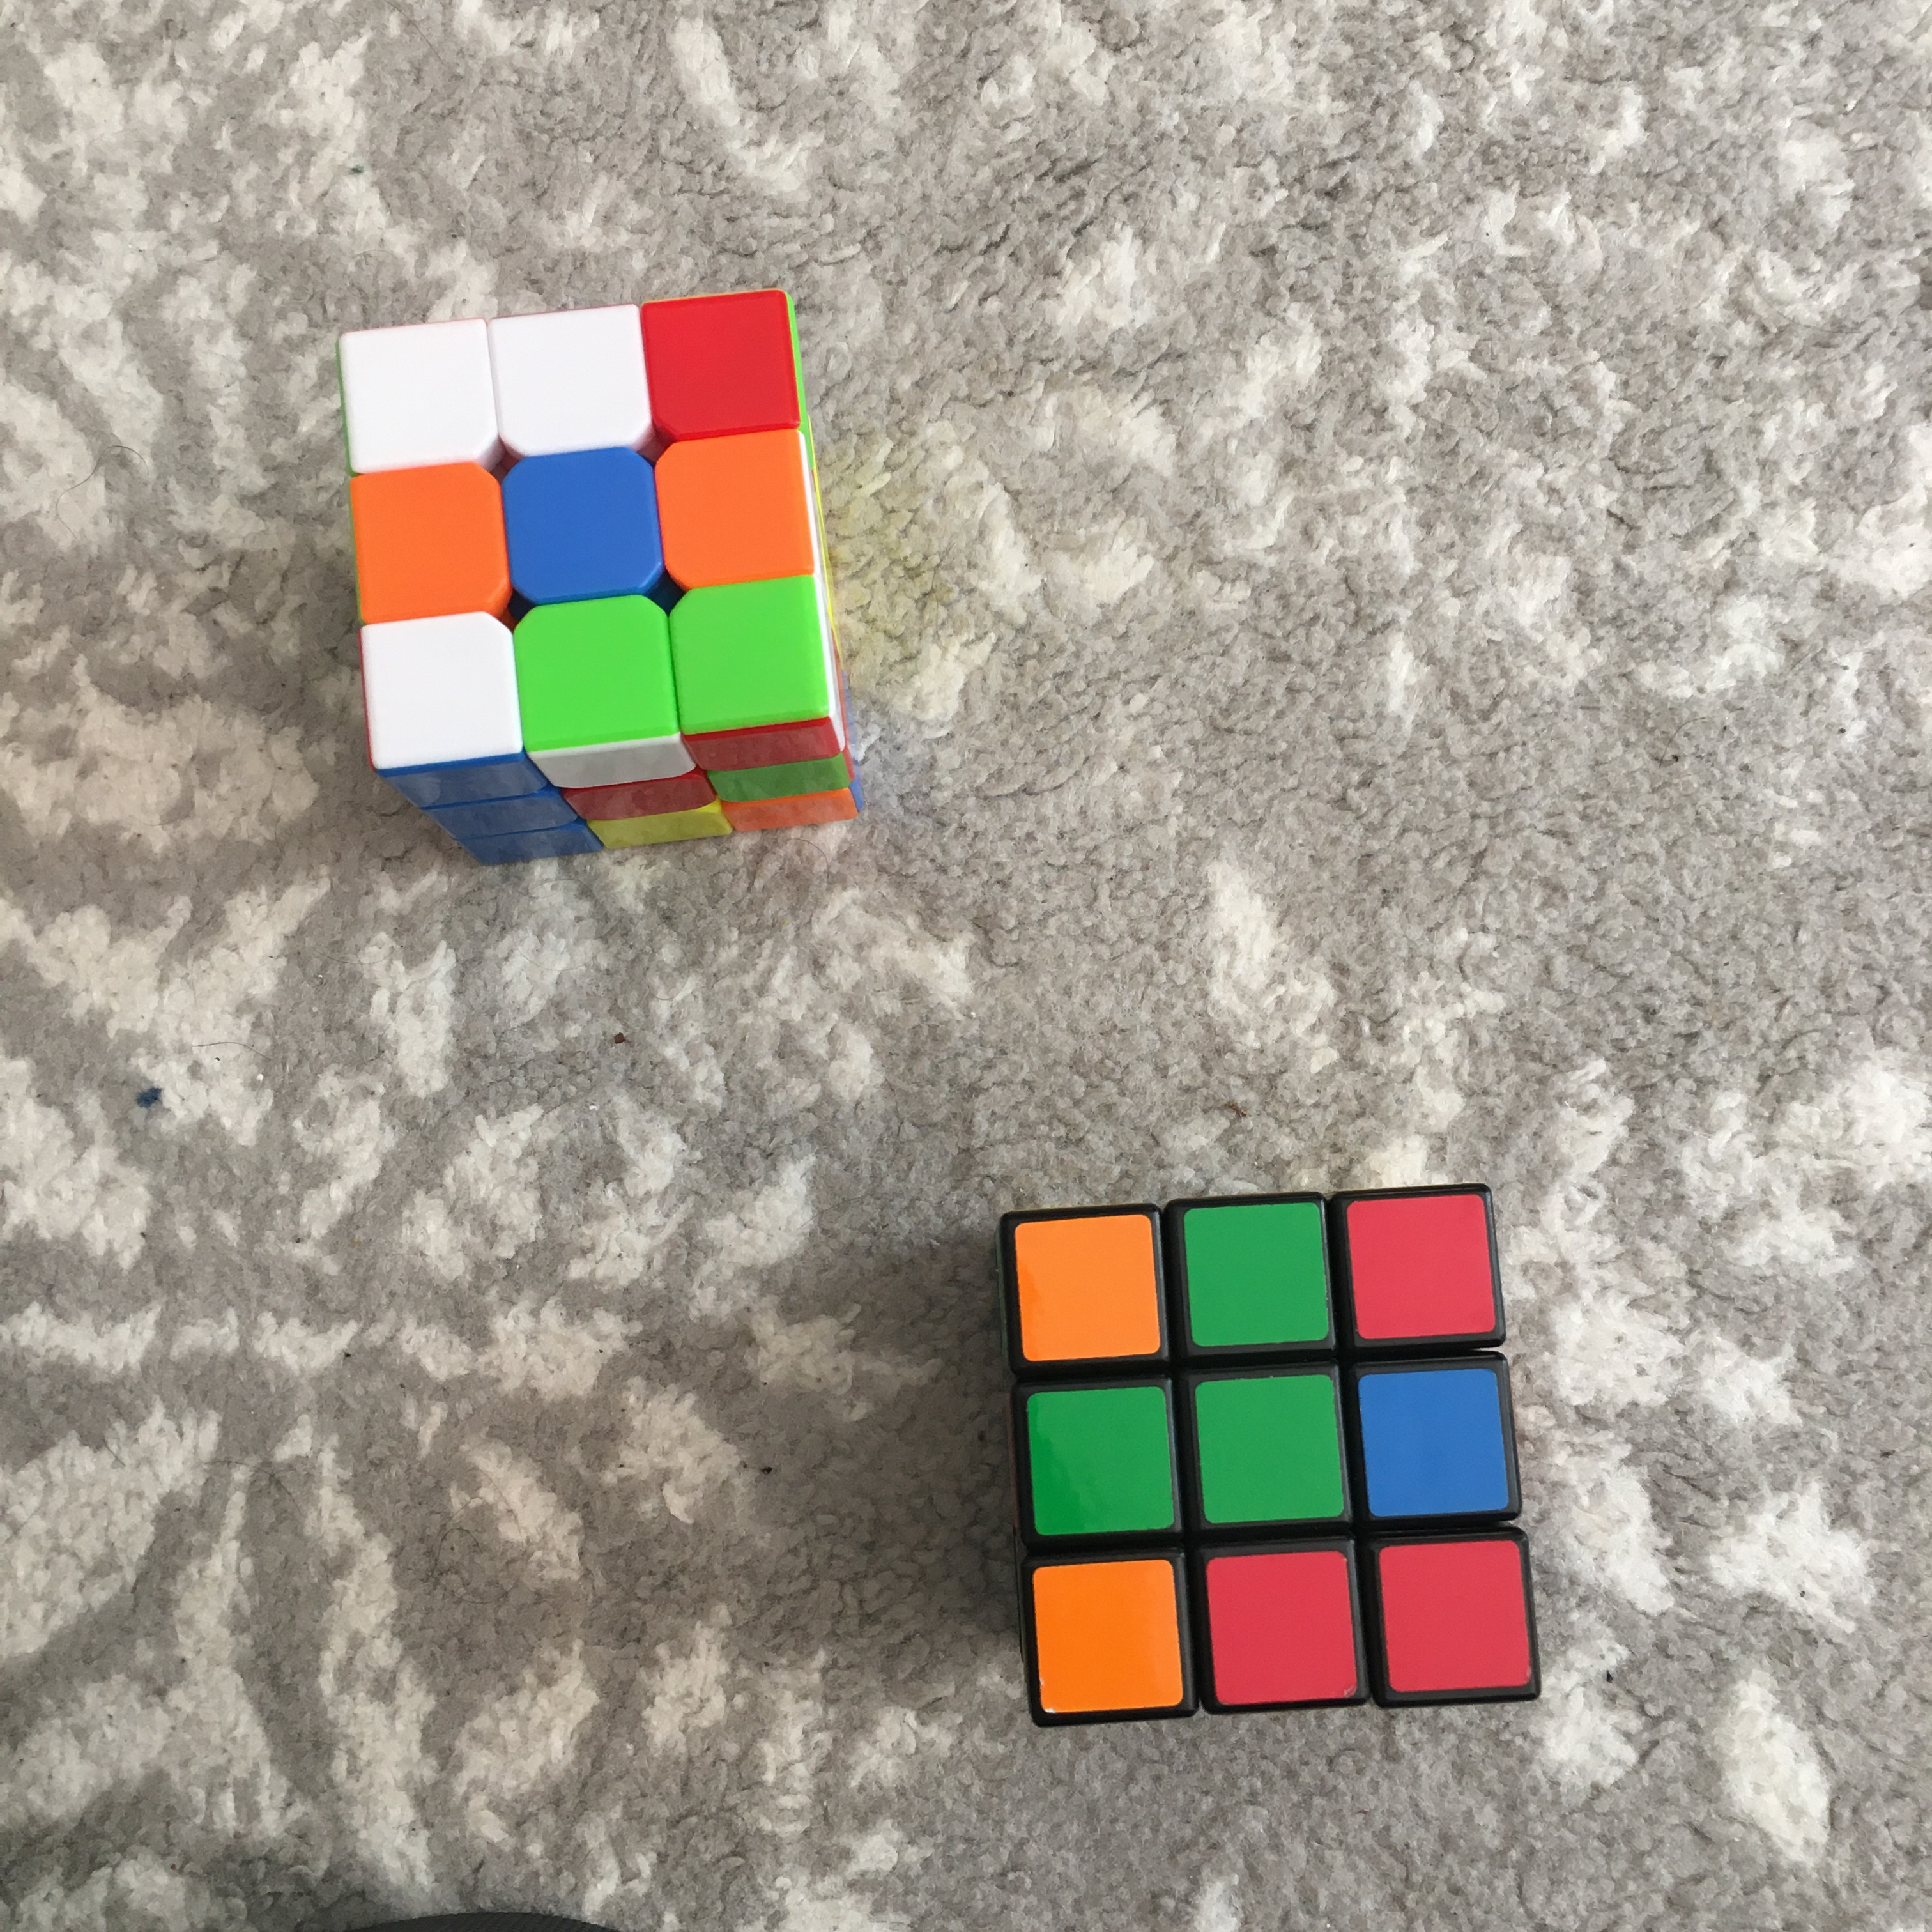face: (1000, 1202, 1545, 1717), (325, 287, 834, 760)
